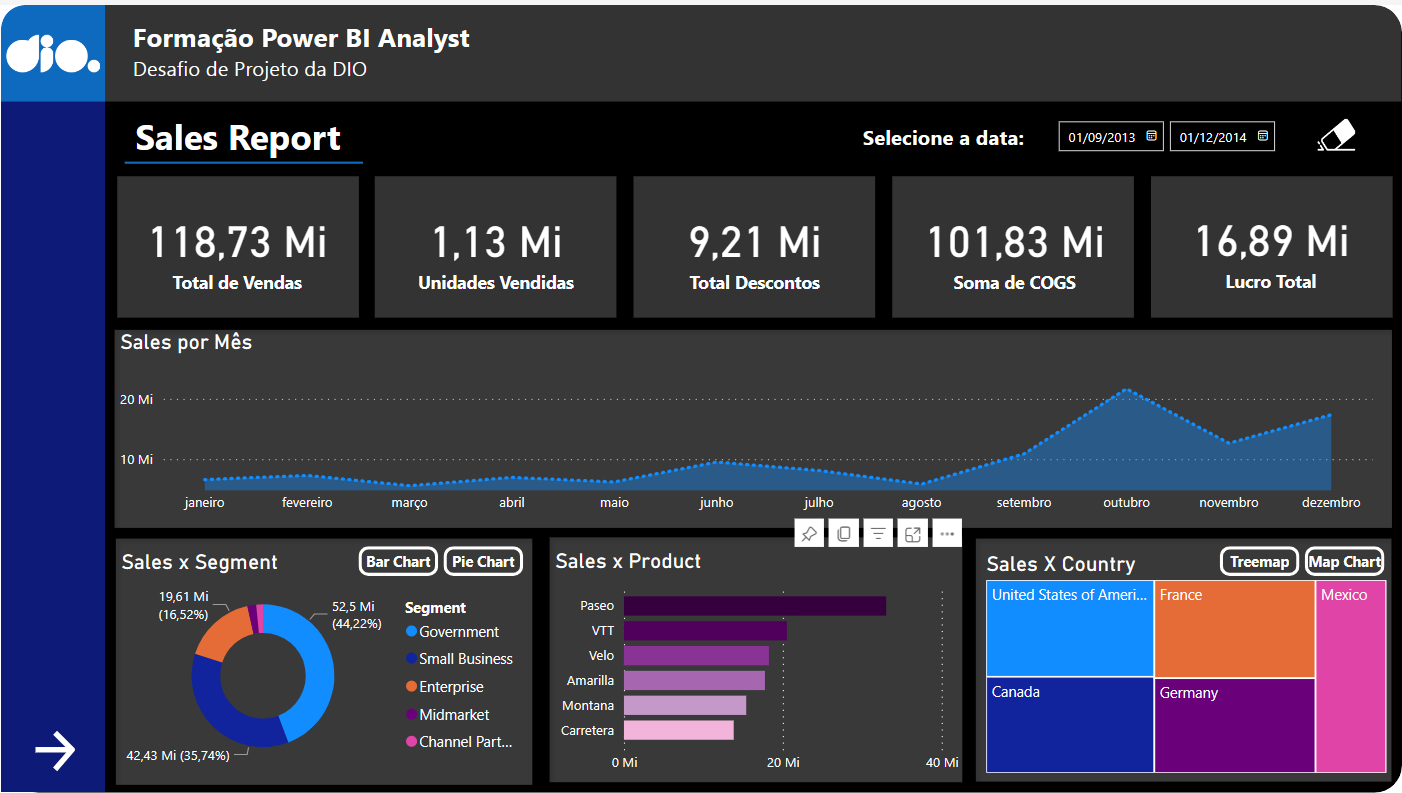

Layout of this report page (visuals, bound fields, positions):
{"tool":"powerbi","page":{"name":"Sales Report","canvas":[1280,720],"ordinal":0},"visuals":[{"type":"group","id":"g1","title":"BG","box":[0,0,1280.6,719.8],"z":0},{"type":"shape","title":"Background","box":[9.6,0,1271,719.8],"z":0,"group":"g1"},{"type":"shape","title":"bg-Título","box":[95.2,0,1185.1,88.4],"z":0,"group":"g2"},{"type":"slicer","fields":{"Values":["financials.Date"]},"box":[953,96.2,231.4,47.1],"z":0,"group":"g9"},{"type":"shape","box":[112.9,127.5,217.6,32.3],"z":0,"group":"g3"},{"type":"shape","title":"BG total vendas","box":[105.6,156.4,221,129.2],"z":0,"group":"g4"},{"type":"shape","box":[95.2,287.4,1185.1,198.9],"z":0,"group":"g5"},{"type":"shape","title":"BG Sales x Product","box":[492.6,477,395,241.7],"z":0,"group":"g6"},{"type":"shape","title":"BG Sales x Country","box":[882.1,477.8,397.7,240],"z":0,"group":"g8"},{"type":"shape","title":"BG Sales x Segment","box":[96,477.9,398.5,243],"z":0,"group":"g10"},{"type":"shape","title":"Barra esquerda","box":[0,0,95.2,719.2],"z":1000,"group":"g1"},{"type":"textbox","title":"Título","box":[115.5,8.5,607,71.4],"z":1000,"group":"g2"},{"type":"textbox","box":[118,93.5,329.9,66.3],"z":1000,"group":"g3"},{"type":"textbox","box":[782,103.1,168.6,42.9],"z":1000,"group":"g9"},{"type":"card","title":"Total de Vendas","fields":{"Values":["Sum(financials. Sales)"]},"box":[105,160,221.7,126.7],"z":1000,"group":"g4"},{"type":"areaChart","title":"Sales por Mês","fields":{"Category":["financials.Date.Variation.Hierarquia de datas.Mês"],"Y":["Sum(financials. Sales)"]},"box":[104.9,296.9,1154.3,175.7],"z":1000,"group":"g5"},{"type":"clusteredBarChart","title":"Sales x Segment","fields":{"Category":["financials.Segment"],"Y":["Sum(financials. Sales)"]},"box":[105.5,496.7,380,208.9],"z":1000,"group":"g10"},{"type":"clusteredBarChart","title":"Sales x Product","fields":{"Y":["Sum(financials. Sales)"],"Category":["financials.Product"]},"box":[501.8,497,378.3,213.3],"z":1000,"group":"g6"},{"type":"azureMap","title":"Sales x Country","fields":{"Size":["Sum(financials. Sales)"],"Category":["financials.Country"]},"box":[896,497.8,376.2,207.7],"z":1000,"group":"g8"},{"type":"image","box":[1197.7,93.1,44.3,51.4],"z":1500,"group":"g9"},{"type":"shape","title":"logo-bg","box":[0,0,95.2,88.4],"z":2000,"group":"g1"},{"type":"group","id":"g2","title":"Título","box":[95.2,0,1185.1,88.4],"z":2000},{"type":"actionButton","title":"Limpar Filtros","box":[1195.5,100,52.2,44.4],"z":2000,"group":"g9"},{"type":"shape","title":"BG Unidades Vendidas","box":[341.9,156.4,221,129.2],"z":2000,"group":"g4"},{"type":"image","title":"logo","box":[0,0,95.2,88.4],"z":3000,"group":"g1"},{"type":"group","id":"g3","title":"Subtitulo","box":[112.9,93.5,335,66.3],"z":3000},{"type":"card","title":"Unidades Vendidas","fields":{"Values":["Sum(financials.Units Sold)"]},"box":[341.7,160,221.7,126.7],"z":3000,"group":"g4"},{"type":"shape","title":"bt Sales x Seg Pie","box":[404.2,493.4,72.9,27.1],"z":3000,"group":"g10"},{"type":"shape","title":"bt Sales x Crt Map","box":[1114.2,493.4,72.9,27.1],"z":3000,"group":"g8"},{"type":"group","id":"g4","title":"Cards","box":[105,156.4,1167,130.2],"z":3500},{"type":"shape","title":"BG Descontos","box":[578.3,156.4,221,129.2],"z":4000,"group":"g4"},{"type":"group","id":"g5","title":"Gráfico de Linha","box":[95.2,287.4,1185.1,198.9],"z":4000},{"type":"shape","title":"bt Sales x Seg Bar","box":[327.1,493.4,72.9,27.1],"z":4000,"group":"g10"},{"type":"shape","title":"bt Sales x Crt Tree","box":[1191.4,493.4,72.9,27.1],"z":4000,"group":"g8"},{"type":"card","title":"Total Descontos","fields":{"Values":["Sum(financials.Discounts)"]},"box":[578.3,160,221.7,126.7],"z":5000,"group":"g4"},{"type":"group","id":"g6","title":"Sales X Product","box":[492.6,477,395,241.7],"z":5000,"group":"g7"},{"type":"shape","title":"BG Soma COGS","box":[814.6,156.4,221,129.2],"z":6000,"group":"g4"},{"type":"group","id":"g7","title":"Bottom Measures","box":[96,477,1183.8,243.9],"z":6000},{"type":"group","id":"g8","title":"Sales X Country","box":[882.1,477.8,397.7,240],"z":6000,"group":"g7"},{"type":"group","id":"g9","title":"Segmentação","box":[782,93.1,465.8,52.9],"z":7000},{"type":"card","title":"Soma GOGS","fields":{"Values":["Sum(financials.COGS)"]},"box":[815,160,221.7,126.7],"z":7000,"group":"g4"},{"type":"group","id":"g10","title":"Sales X Segment","box":[96,477.9,398.5,243],"z":7001,"group":"g7"},{"type":"shape","box":[1051,156.4,221,129.2],"z":8000,"group":"g4"},{"type":"actionButton","title":"Próxima Página","box":[25,652.5,46.2,58.8],"z":8000},{"type":"card","title":"Unidades Vendidas","fields":{"Values":["Sum(financials.Profit)"]},"box":[1050,158.3,221.7,126.7],"z":9000,"group":"g4"}]}

Visuals, with their boxes in screenshot pixels (x1, y1, x2, y2), scaled from the page's 1280x720 canvas onto the 1402x793 screenshot:
"BG" group: [0,0,1401,792]
"Background" shape: [11,0,1401,792]
"bg-Título" shape: [104,0,1401,97]
slicer - financials.Date: [1044,106,1297,158]
shape: [124,140,362,176]
"BG total vendas" shape: [116,172,358,315]
shape: [104,317,1401,536]
"BG Sales x Product" shape: [540,525,972,792]
"BG Sales x Country" shape: [966,526,1401,791]
"BG Sales x Segment" shape: [105,526,542,792]
"Barra esquerda" shape: [0,0,104,792]
"Título" textbox: [127,9,791,88]
textbox: [129,103,491,176]
textbox: [857,114,1041,161]
"Total de Vendas" card: [115,176,358,316]
"Sales por Mês" areaChart: [115,327,1379,521]
"Sales x Segment" clusteredBarChart: [116,547,532,777]
"Sales x Product" clusteredBarChart: [550,547,964,782]
"Sales x Country" azureMap: [981,548,1393,777]
image: [1312,103,1360,159]
"logo-bg" shape: [0,0,104,97]
"Título" group: [104,0,1401,97]
"Limpar Filtros" actionButton: [1309,110,1367,159]
"BG Unidades Vendidas" shape: [374,172,617,315]
"logo" image: [0,0,104,97]
"Subtitulo" group: [124,103,491,176]
"Unidades Vendidas" card: [374,176,617,316]
"bt Sales x Seg Pie" shape: [443,543,523,573]
"bt Sales x Crt Map" shape: [1220,543,1300,573]
"Cards" group: [115,172,1393,316]
"BG Descontos" shape: [633,172,875,315]
"Gráfico de Linha" group: [104,317,1401,536]
"bt Sales x Seg Bar" shape: [358,543,438,573]
"bt Sales x Crt Tree" shape: [1305,543,1385,573]
"Total Descontos" card: [633,176,876,316]
"Sales X Product" group: [540,525,972,792]
"BG Soma COGS" shape: [892,172,1134,315]
"Bottom Measures" group: [105,525,1401,792]
"Sales X Country" group: [966,526,1401,791]
"Segmentação" group: [857,103,1367,161]
"Soma GOGS" card: [893,176,1136,316]
"Sales X Segment" group: [105,526,542,792]
shape: [1151,172,1393,315]
"Próxima Página" actionButton: [27,719,78,783]
"Unidades Vendidas" card: [1150,174,1393,314]
